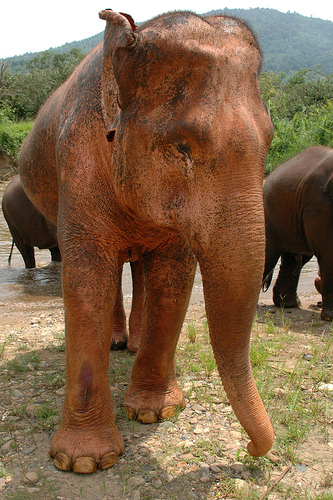elephant: (19, 3, 296, 478)
